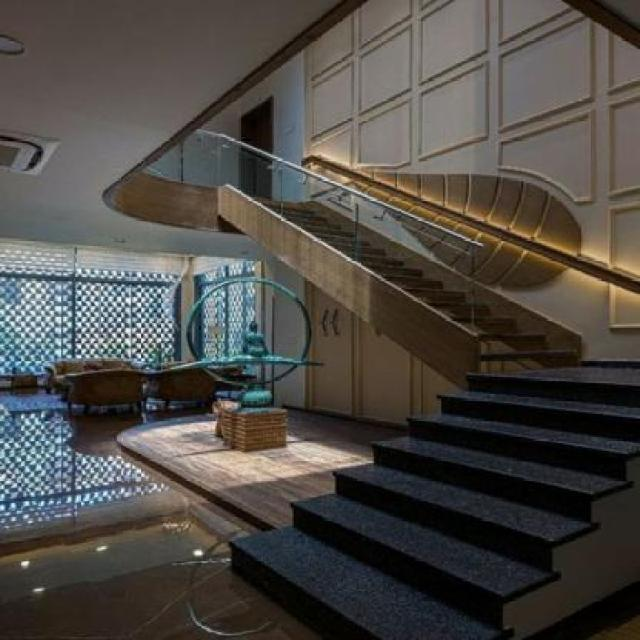stair: (216, 353, 638, 639), (189, 184, 586, 342)
